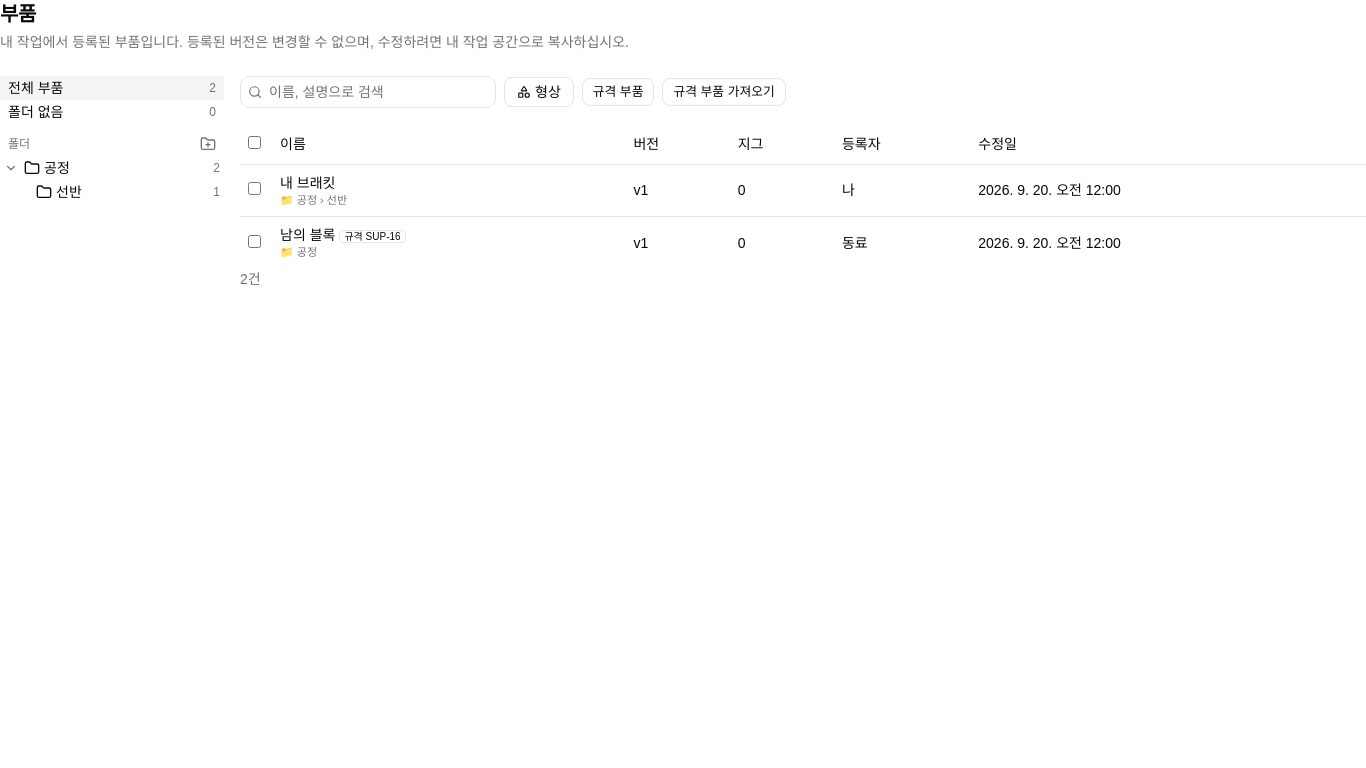
Scenario: 부품 카탈로그 — 관리자는 고른 규격 부품을 내보내고 묶음을 가져온다
The width and height of the screenshot is (1366, 768).
Expected: the link "남의 블록" is shown, left=280, top=227, right=335, bottom=243
Click the checkbox named "내 브래킷 선택" at (254, 189), box left=248, top=182, right=261, bottom=195
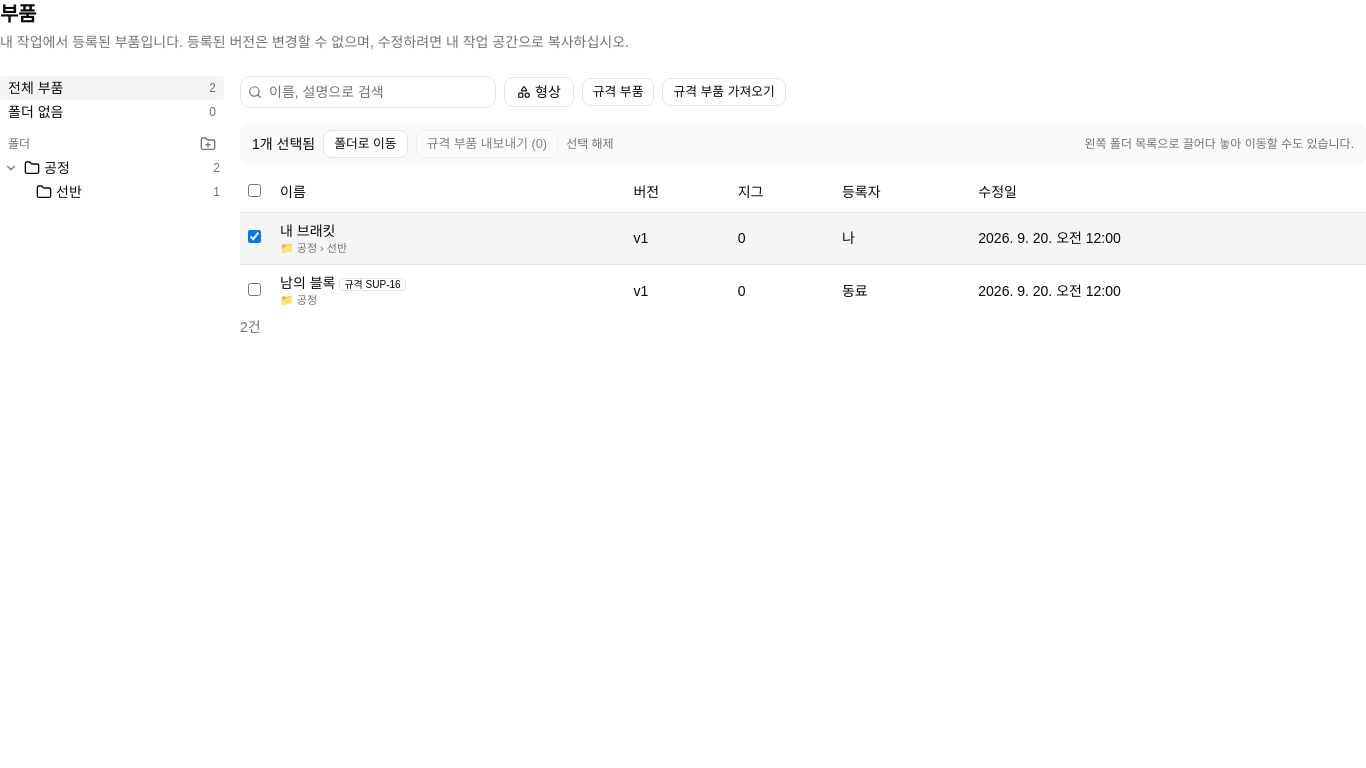
Result: the button "규격 부품 내보내기 (0)" is disabled at left=416, top=130, right=558, bottom=158
Click the checkbox named "남의 블록 선택" at (254, 290), box left=248, top=283, right=261, bottom=296
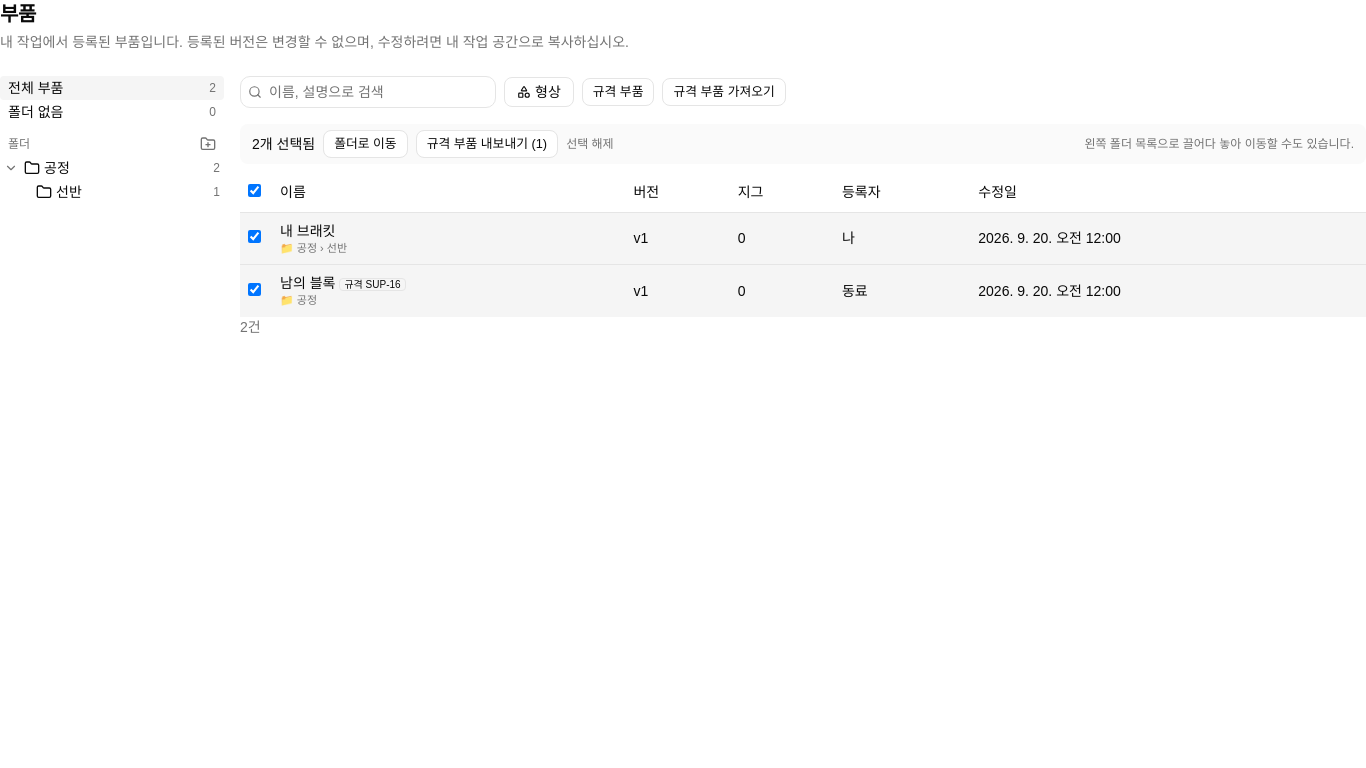
Result: the button "규격 부품 내보내기 (1)" is enabled at left=416, top=130, right=558, bottom=158
Click the button "규격 부품 가져오기" at (724, 92), box left=662, top=78, right=786, bottom=106
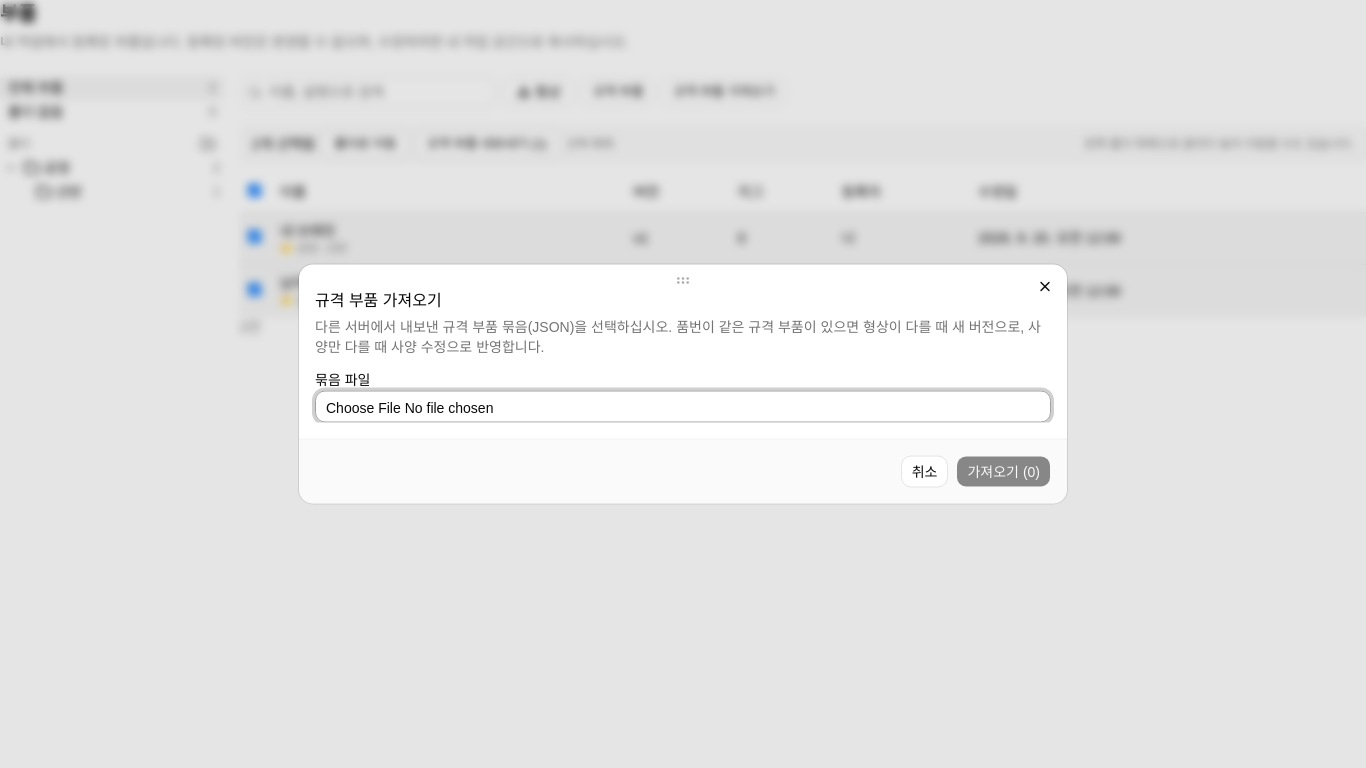
Result: the file field labelled "묶음 파일" is shown at left=315, top=390, right=1051, bottom=422
